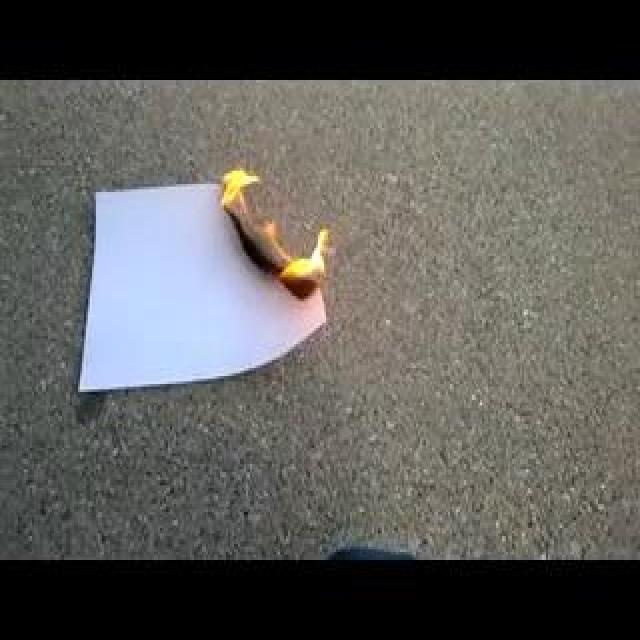Fire: (136, 154, 308, 232)
